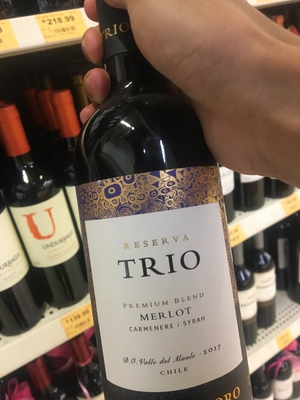trio merlot: (76, 8, 251, 393)
